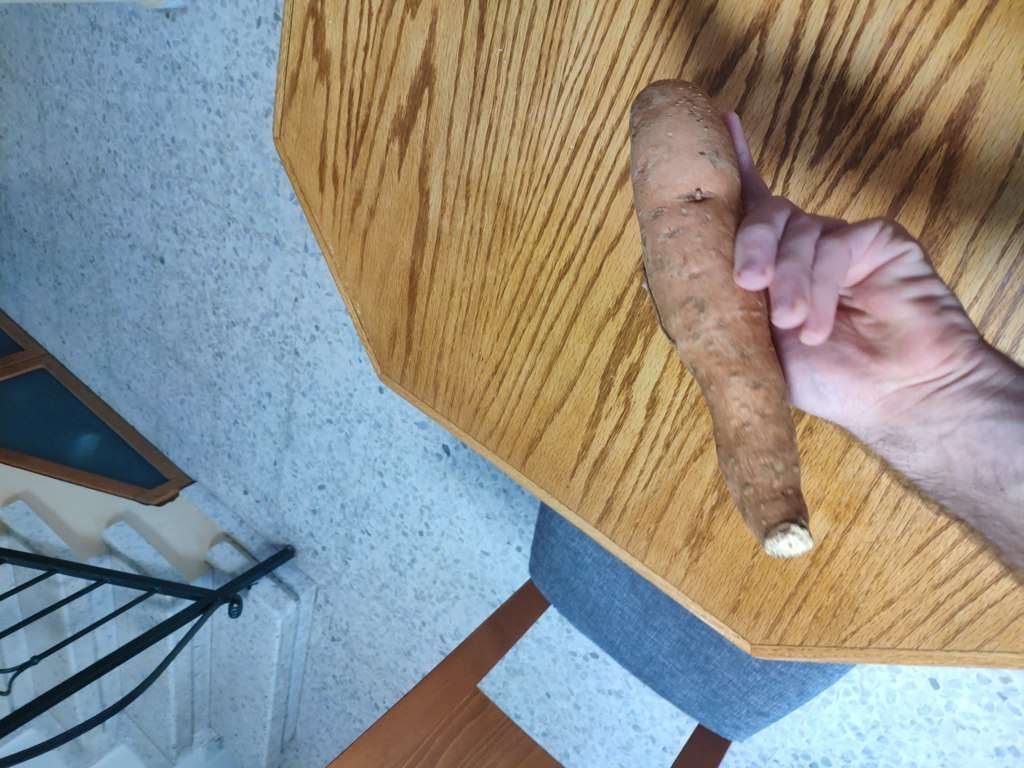Sweet Potato: (619, 73, 827, 560)
